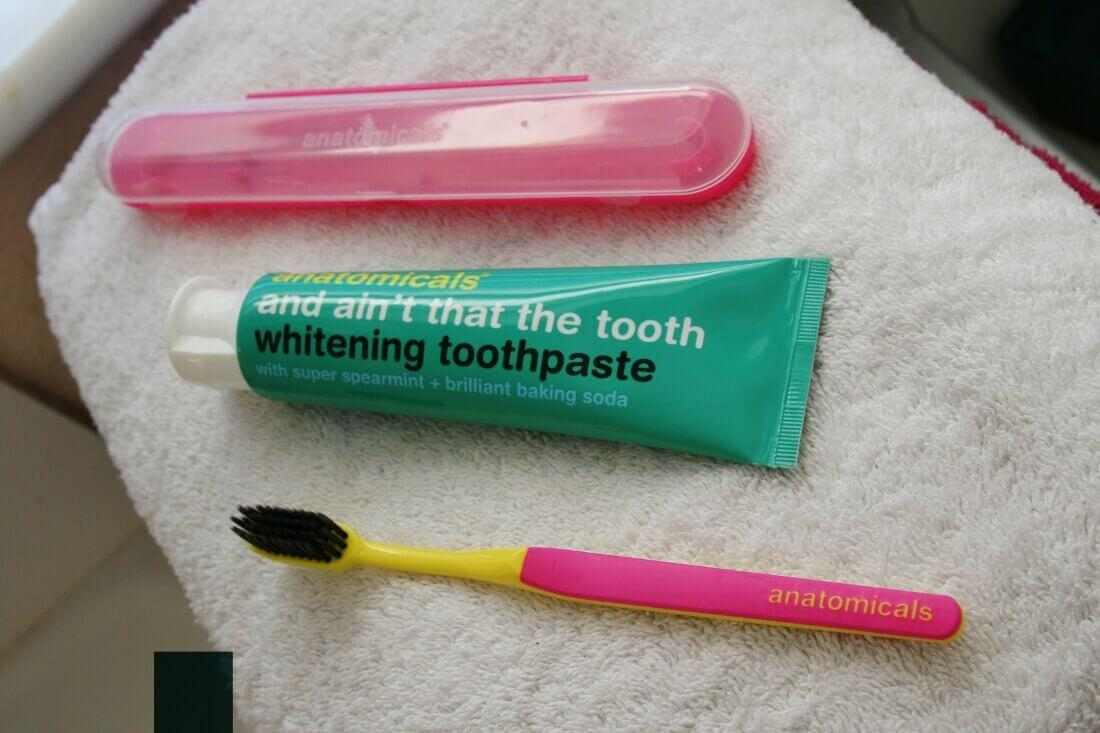toothpaste: (146, 234, 852, 479)
